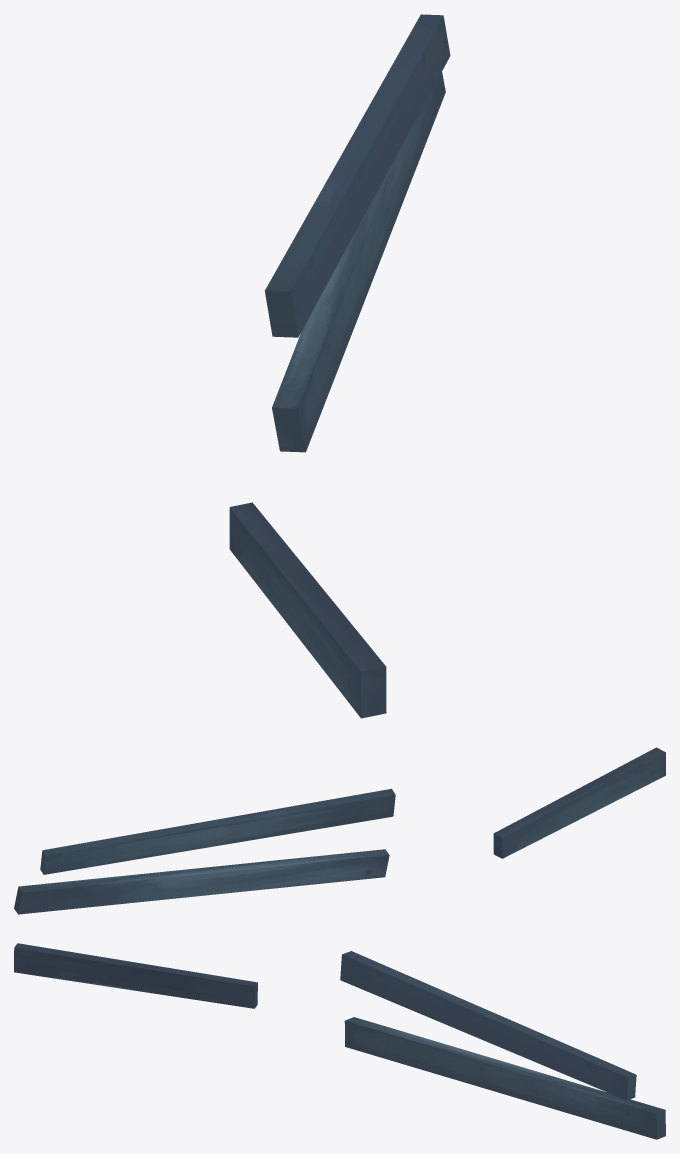
The model's file is Forest_House_Fence_02.glb.
The picture shows the model from 3 angles, top to bottom: view 1: azimuth 30°, elevation 25°; view 2: azimuth 150°, elevation 25°; view 3: azimuth 270°, elevation 25°; orthographic projection. The views are drawn at different scales.
Parts seen in each view (by area): view 1: FenceRight.015; view 2: FenceRight.015; view 3: FenceRight.015.
Part boxes in pixels (x1,y1,x2,y2): FenceRight.015: [229, 14, 450, 718]; FenceRight.015: [14, 747, 665, 914]; FenceRight.015: [14, 943, 665, 1139].
Size of the model in its own units: 0.0129 by 0.003 by 0.0201.
1 material, 1 textured.
